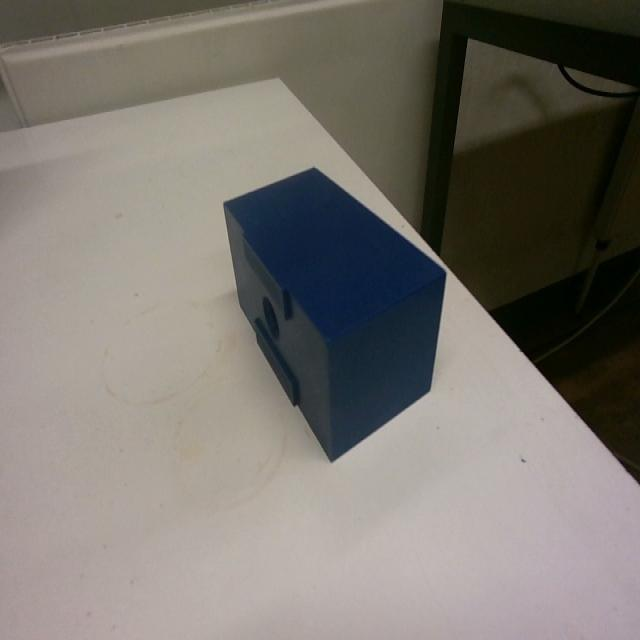Blue Cuboid: (220, 161, 448, 463)
